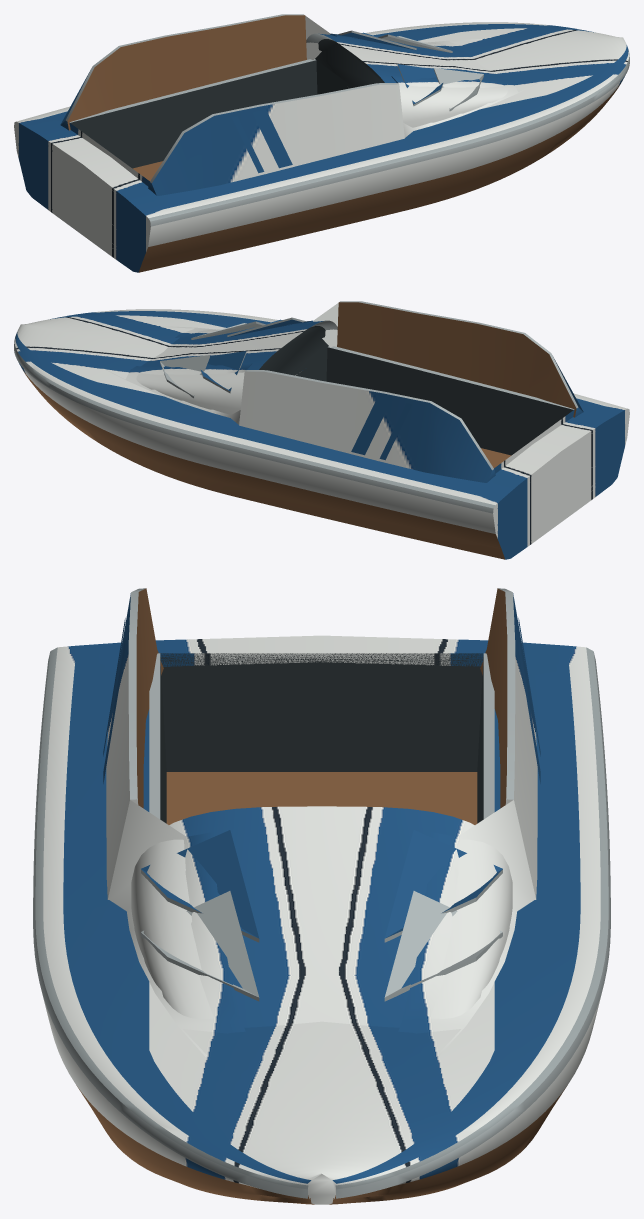
The model's file is Hull_19_SR_銀嶺・青差し.glb.
The picture shows the model from 3 angles, top to bottom: view 1: azimuth 30°, elevation 25°; view 2: azimuth 150°, elevation 25°; view 3: azimuth 270°, elevation 25°; orthographic projection. The views are drawn at different scales.
Visible parts, largest first — view 1: Hull_19_SR; view 2: Hull_19_SR; view 3: Hull_19_SR.
Boxes of the visible parts, <box> form: Hull_19_SR: <box>14,14,629,272</box>; Hull_19_SR: <box>14,301,629,559</box>; Hull_19_SR: <box>33,588,610,1204</box>.
Bounding box in the file's own units: 2.9 × 0.6856 × 1.34.
Materials: 4 (4 with a texture image).
